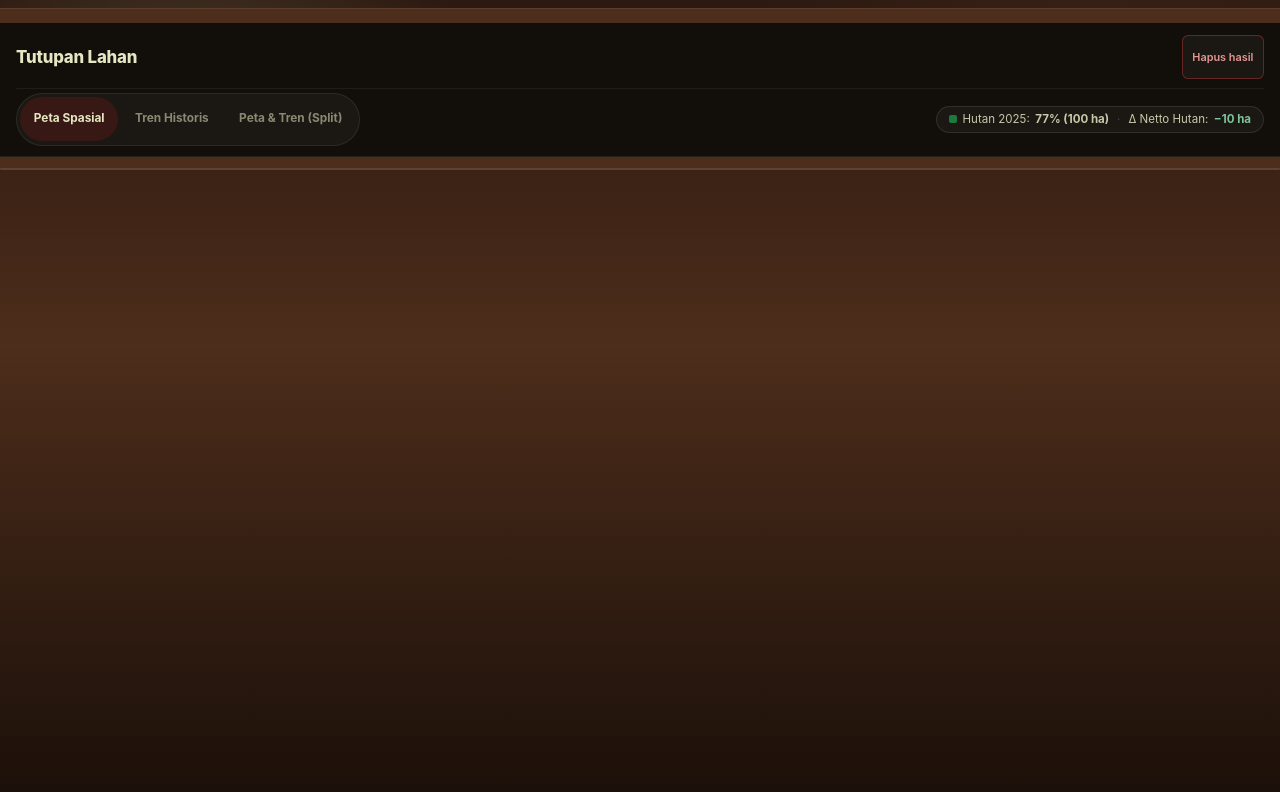
Test: LandCoverPanel › done: hides a class row entirely when it has no meaningful area in any year
The image size is (1280, 792).
Step 1. Click the tab "Tren Historis" → [172, 119], box 121,97 -> 222,141
(page scrolled)
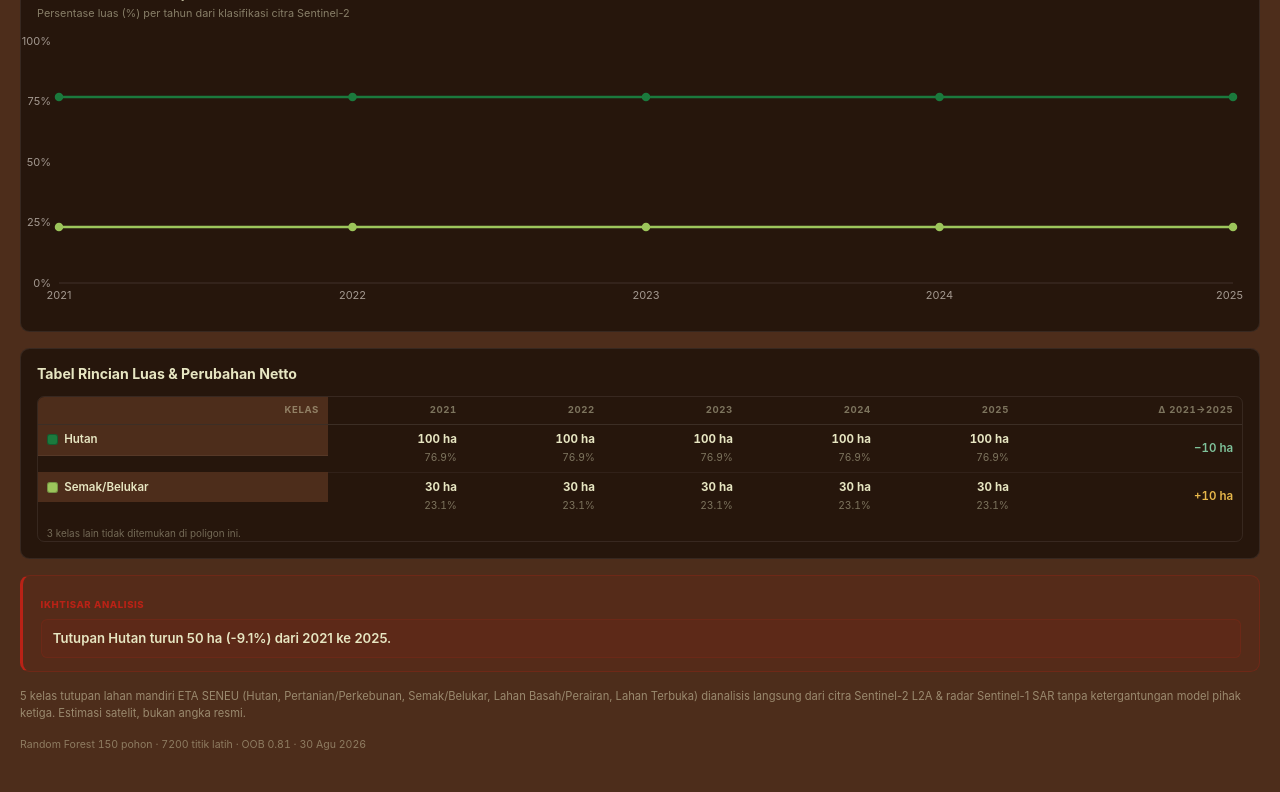
Expected: the text "Tutupan Hutan turun 50 ha (-9.1%) dari 2021 ke 2025." is shown, 41,619 -> 1241,658
Expected: the text "3 kelas lain tidak ditemukan di poligon ini." is shown, 47,527 -> 241,539
